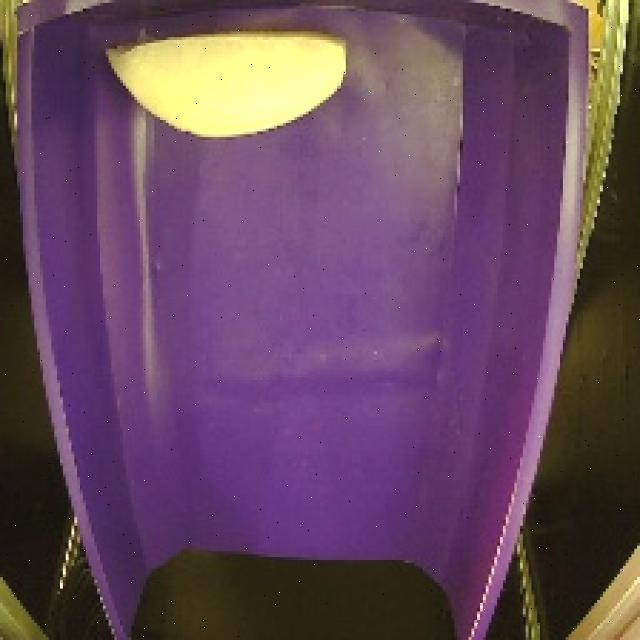white_radish: (98, 24, 358, 146)
